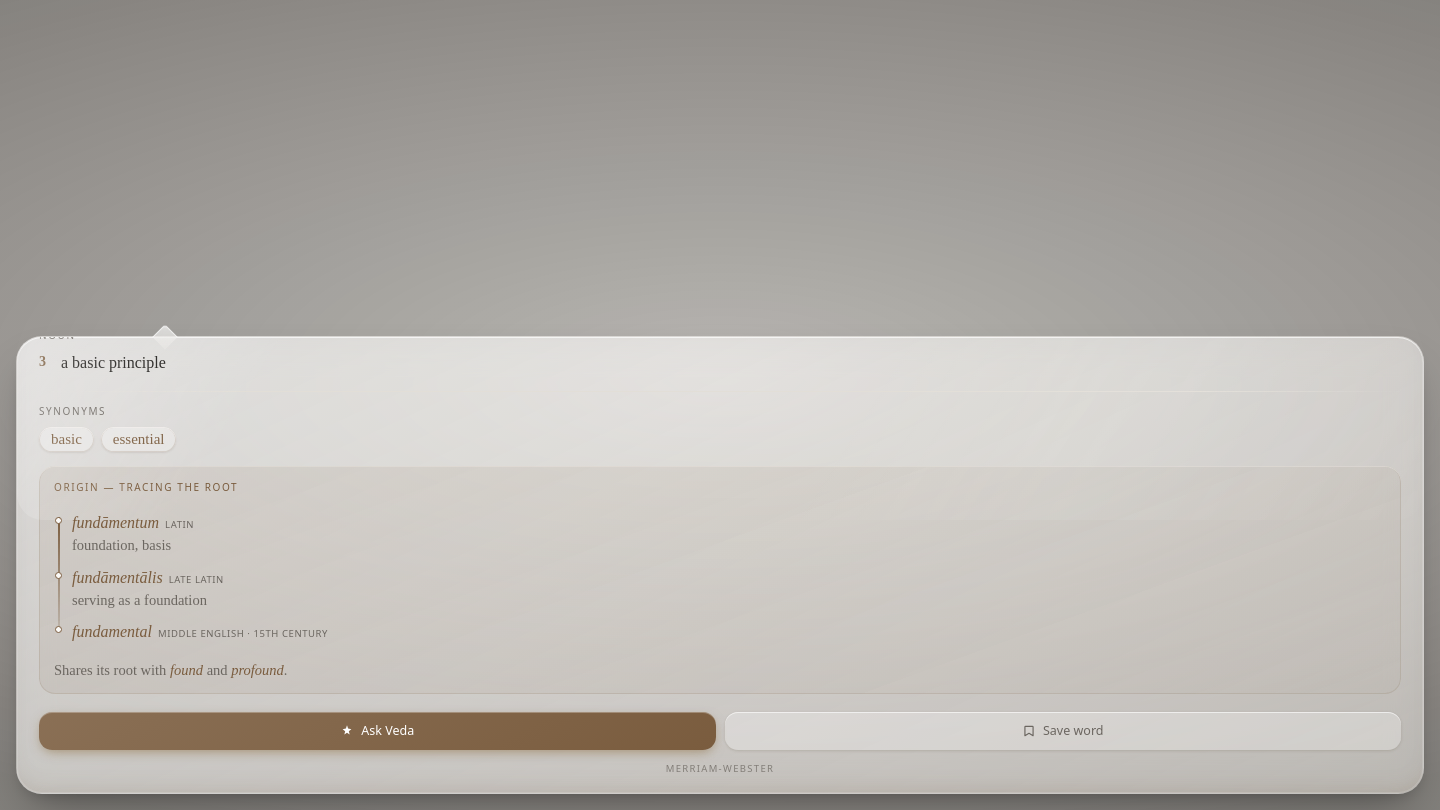
Test: the things a reader can do in the panel › saves the word, and says it did
The width and height of the screenshot is (1440, 810).
(page scrolled)
What coordinates should you click on to do the following:
click the button "Save word"
I would click on:
 (1063, 731)
Its box is 724,712 -> 1401,750.
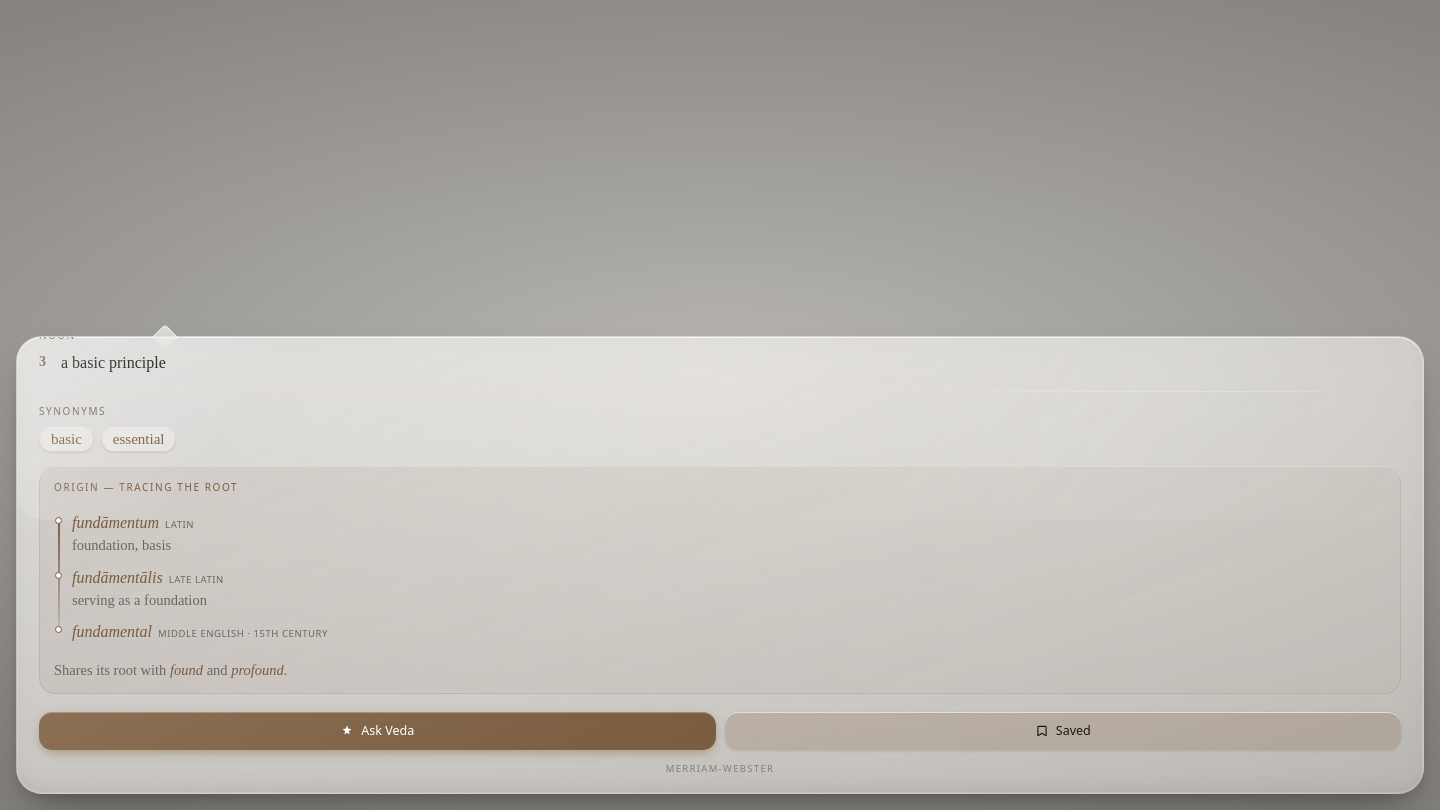
Now the button "Saved" is shown, box 724,712 -> 1401,750
